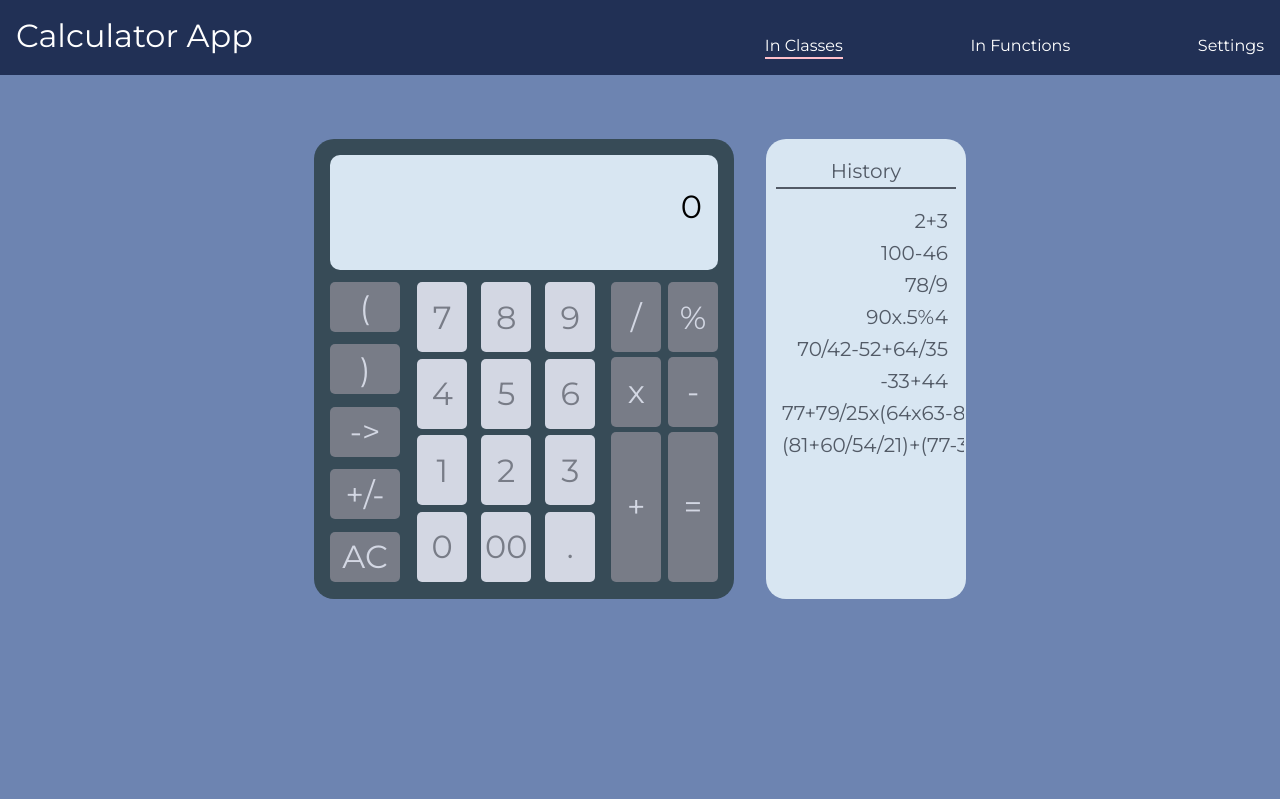
Test: Calculation operations › AC (clear all)  operator should wark
Click the button "9" at coordinates (570, 317), box [545,282,595,352]
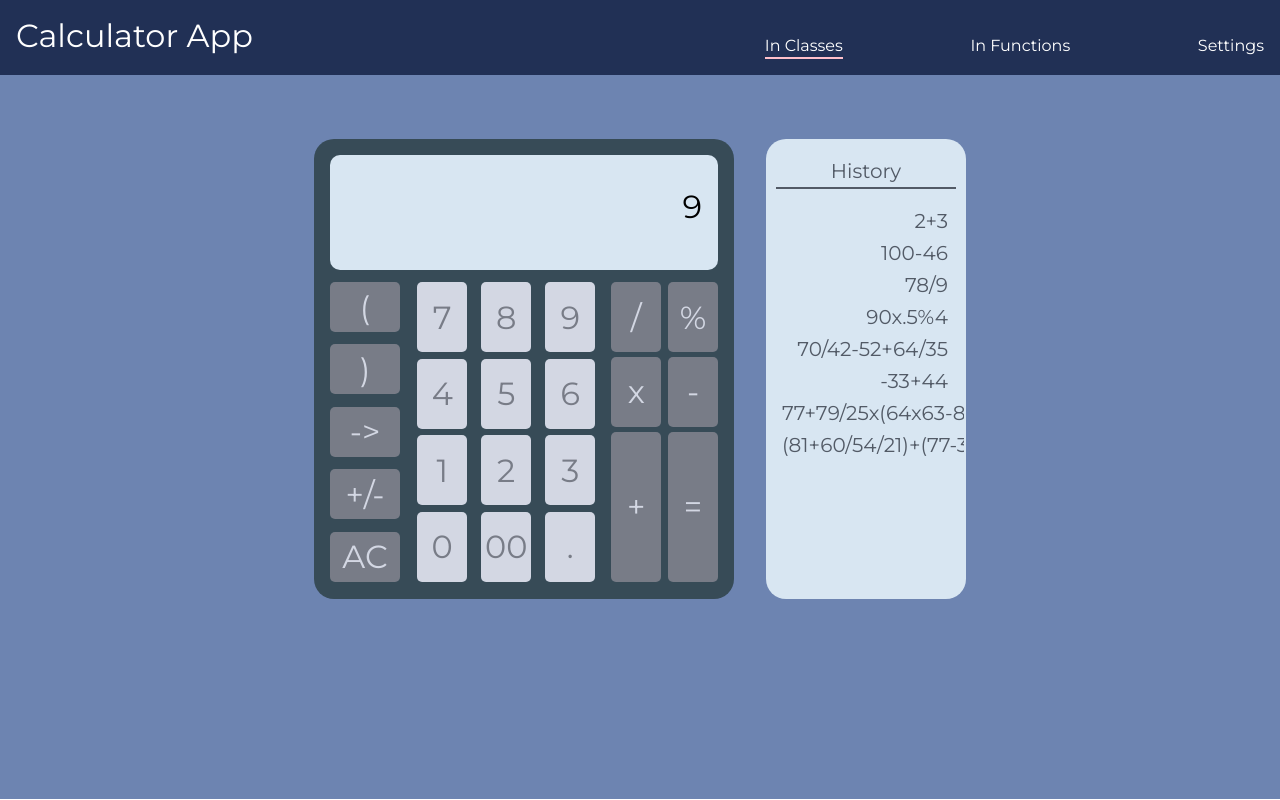
Click the button "5" at coordinates (506, 394), box [481,359,531,429]
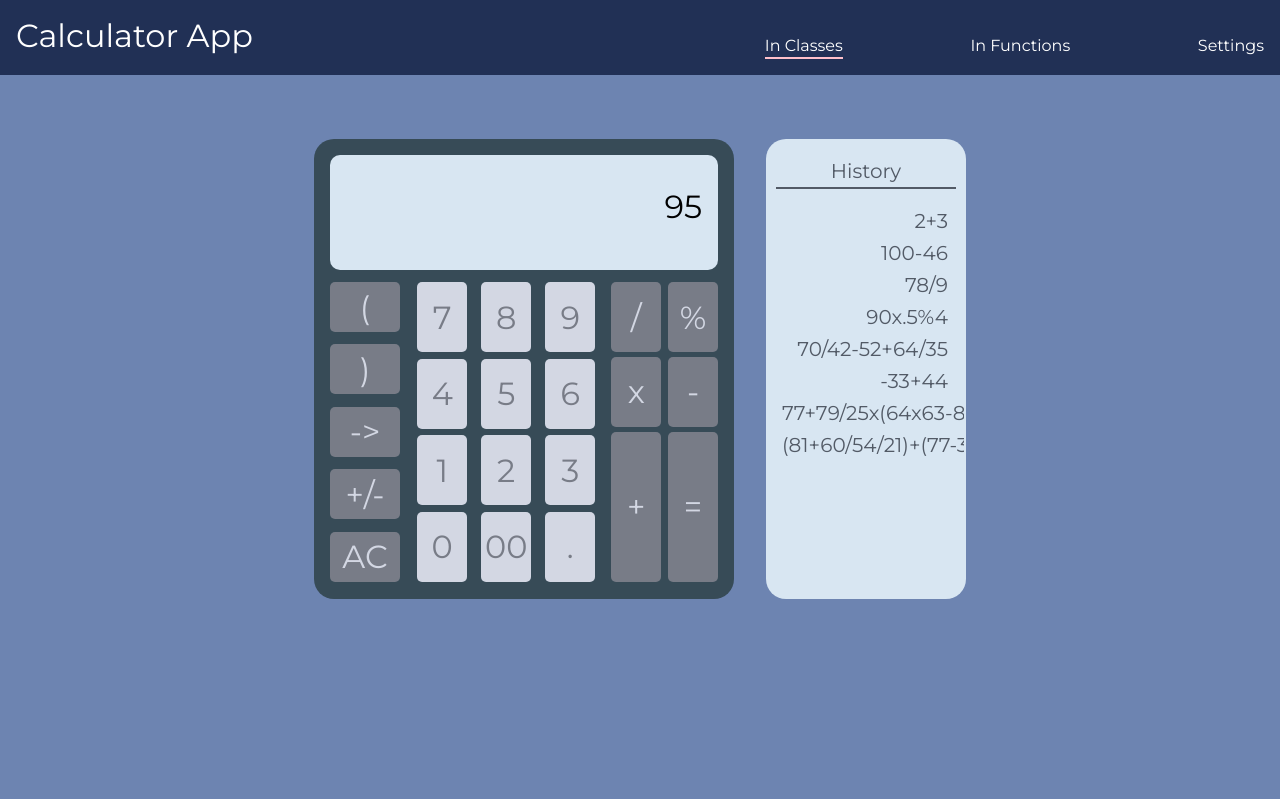
Click the button "x" at coordinates (636, 392), box [611,357,661,427]
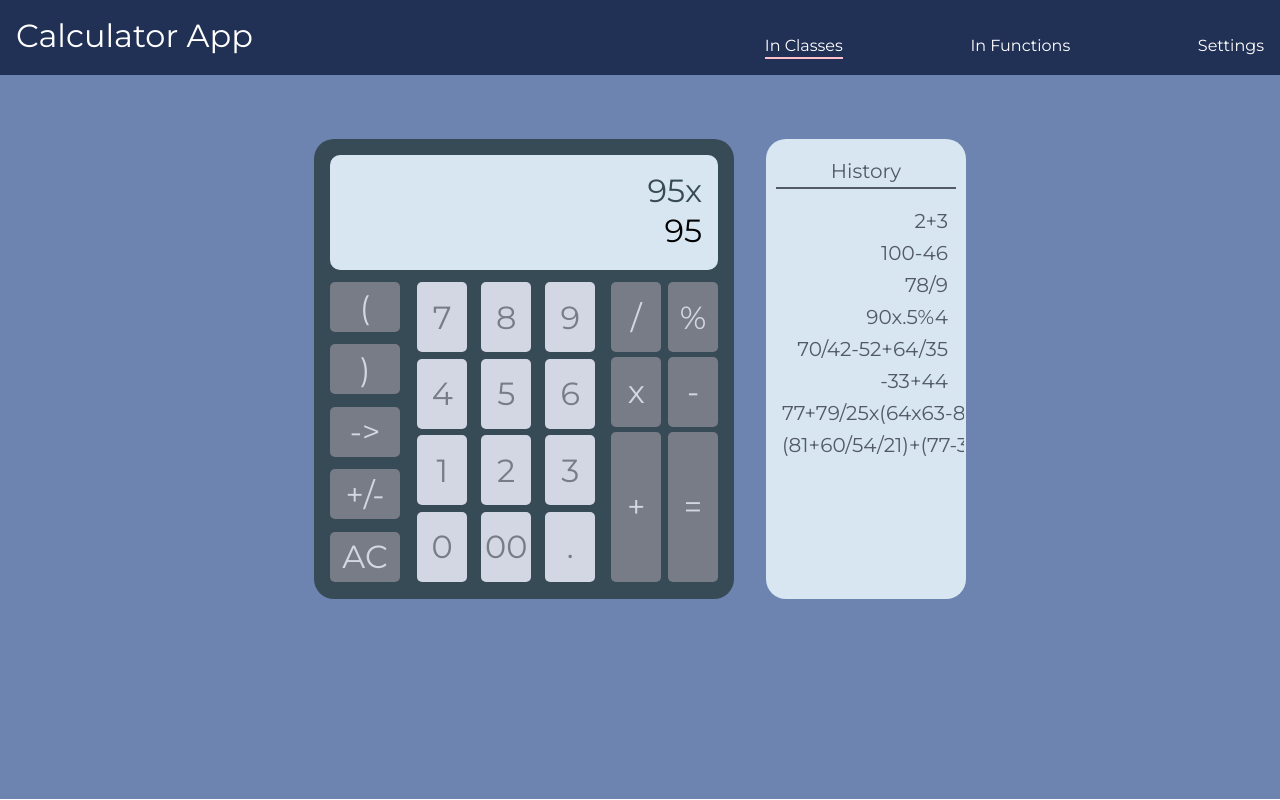
Click the button "5" at coordinates (506, 394), box [481,359,531,429]
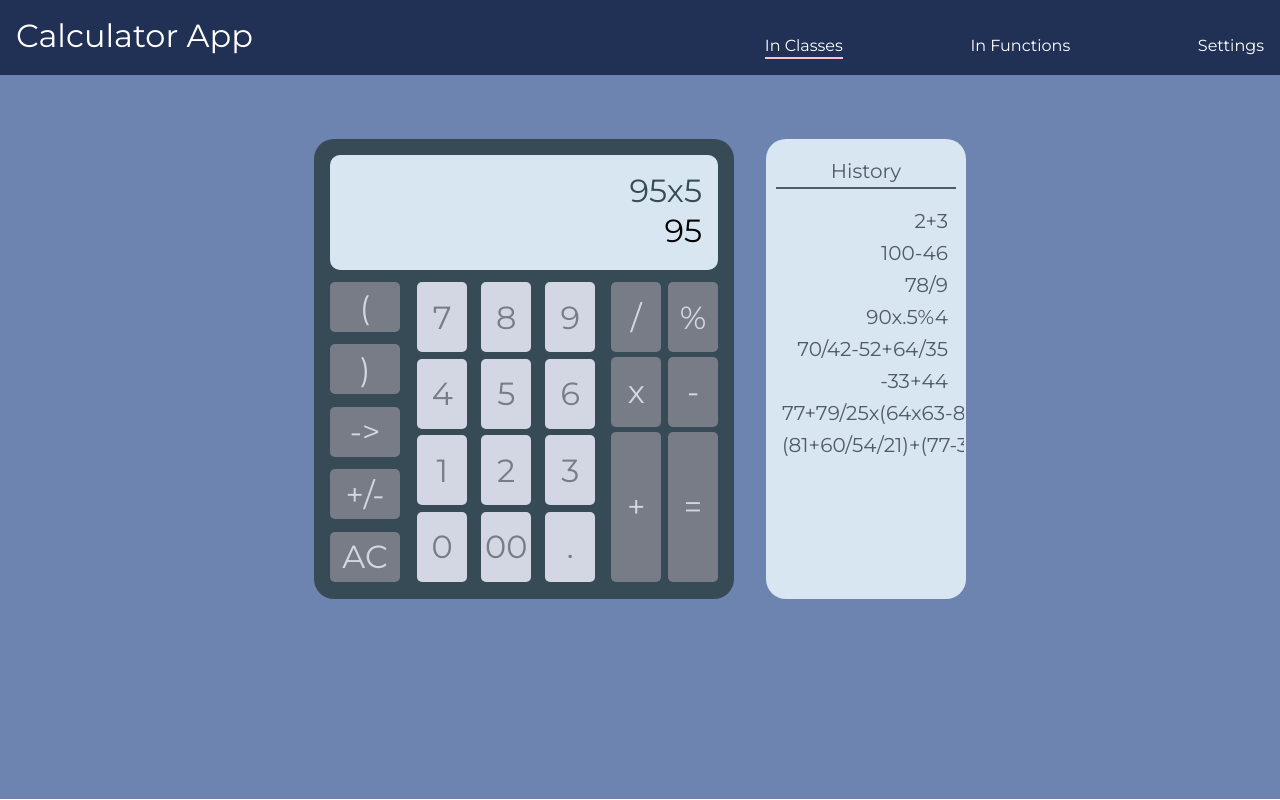
Result: the text with test id "expression-result" reads "95x5" at [629,171,702,210]
Click the button "AC" at coordinates (365, 557), box [330,532,400,582]
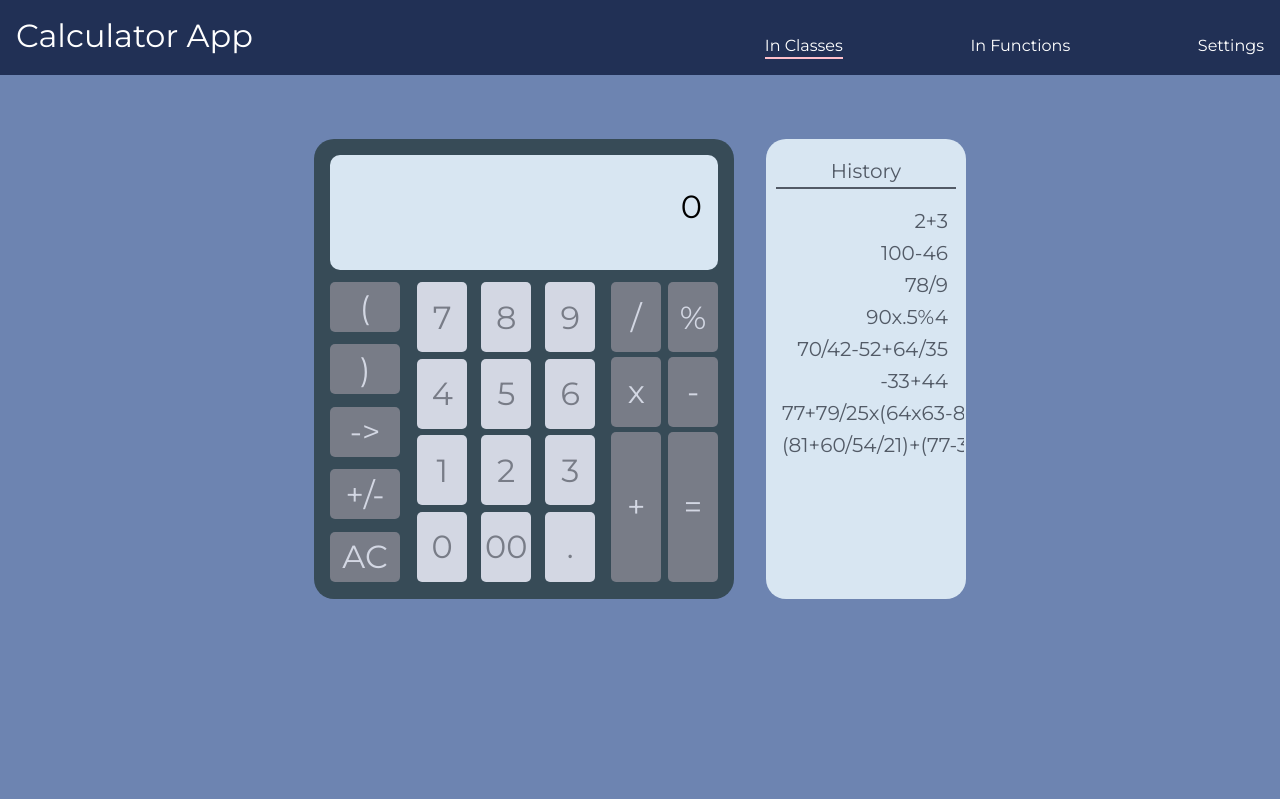
Result: the text with test id "expression-result" reads "0" at [681,187,702,226]
